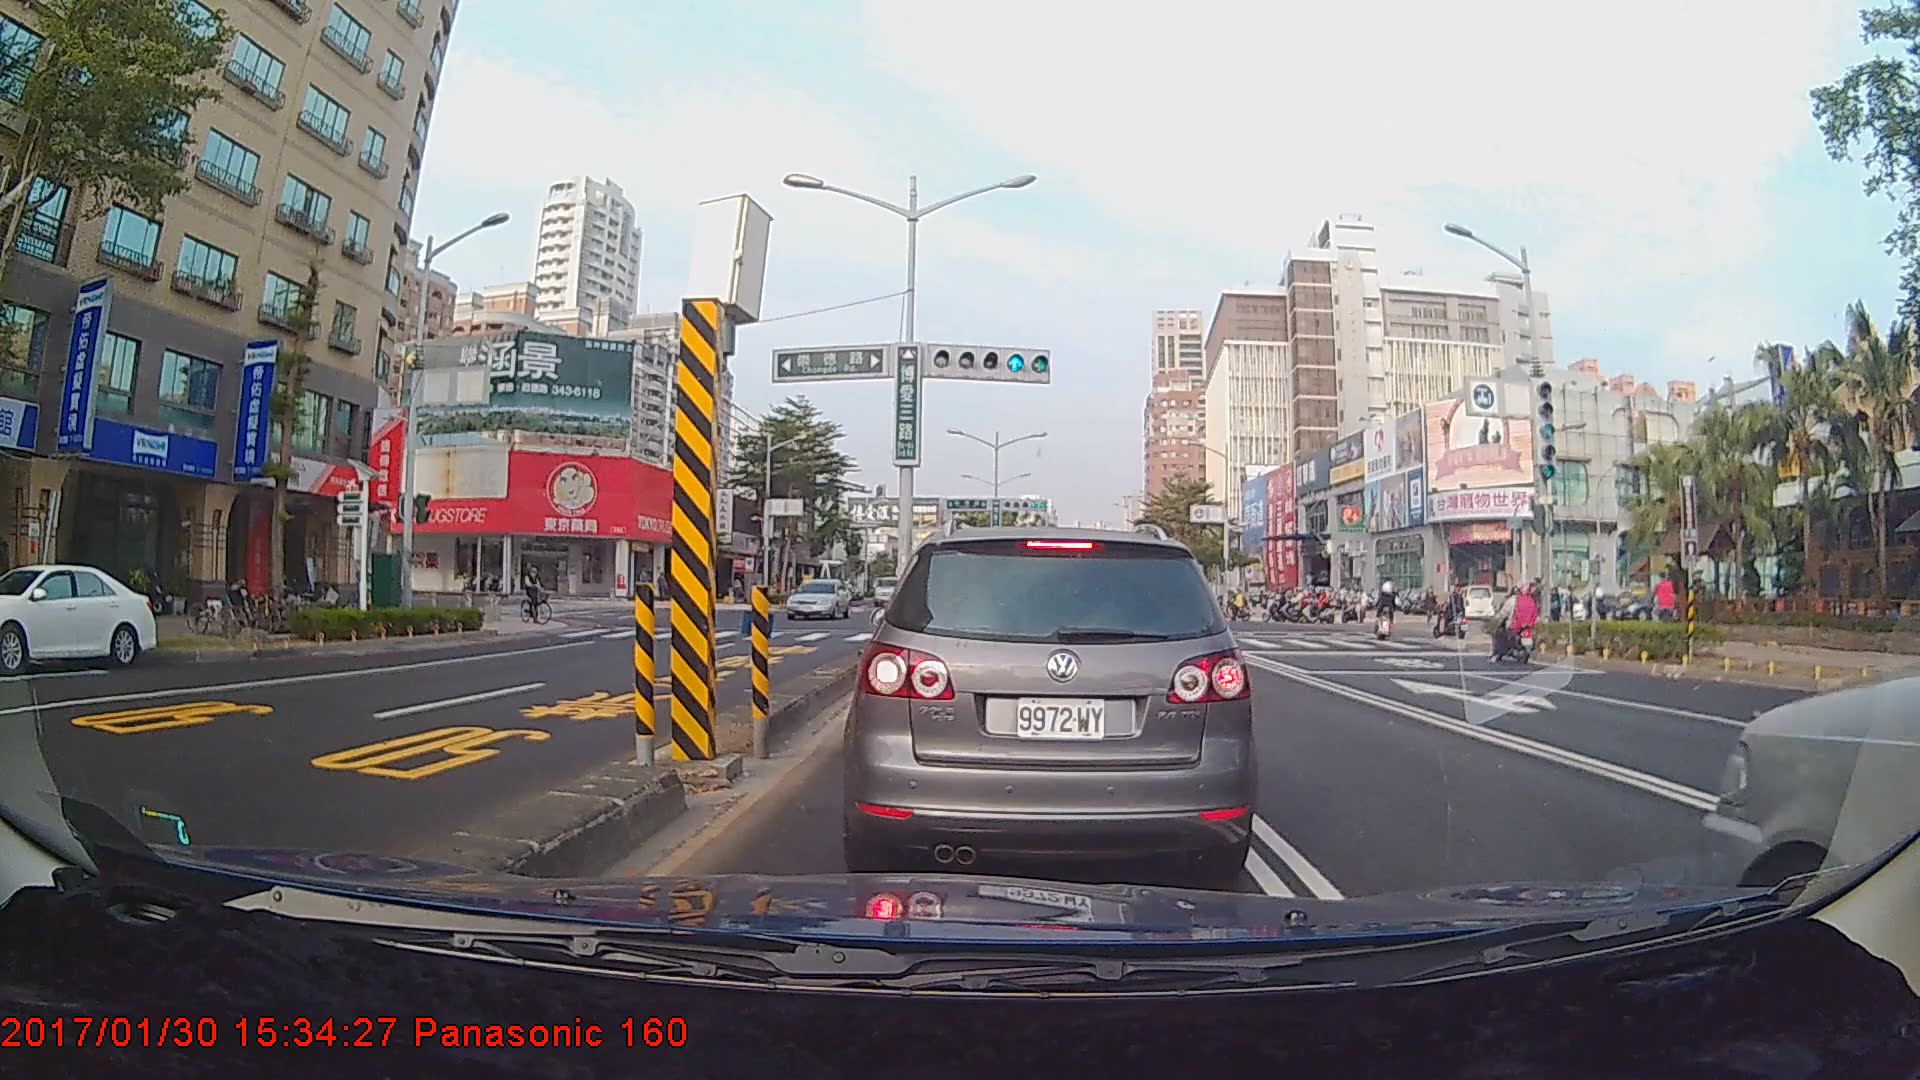rider: (1485, 582, 1548, 668), (518, 559, 561, 629), (1644, 566, 1682, 634), (1436, 582, 1473, 646), (1368, 574, 1403, 638), (1376, 582, 1405, 642), (1587, 582, 1614, 621)
vehicle: (853, 521, 1249, 883), (0, 561, 157, 671), (786, 577, 851, 622), (870, 576, 905, 604)
